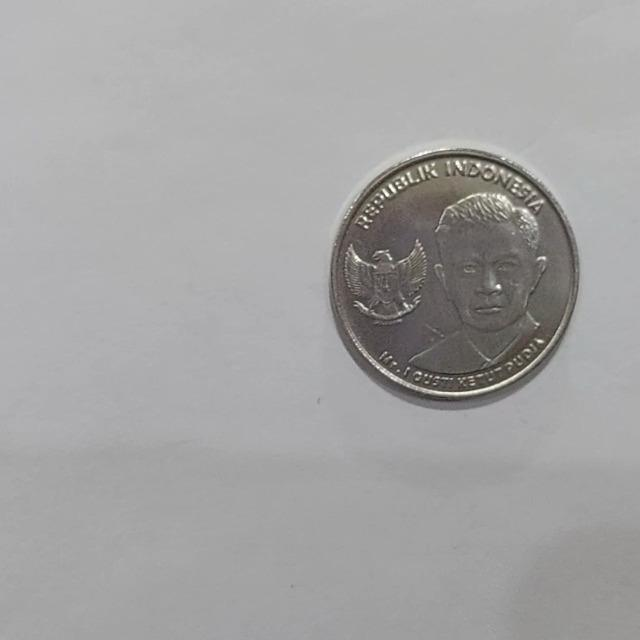Rp100: (329, 145, 580, 404), (401, 189, 550, 377)
